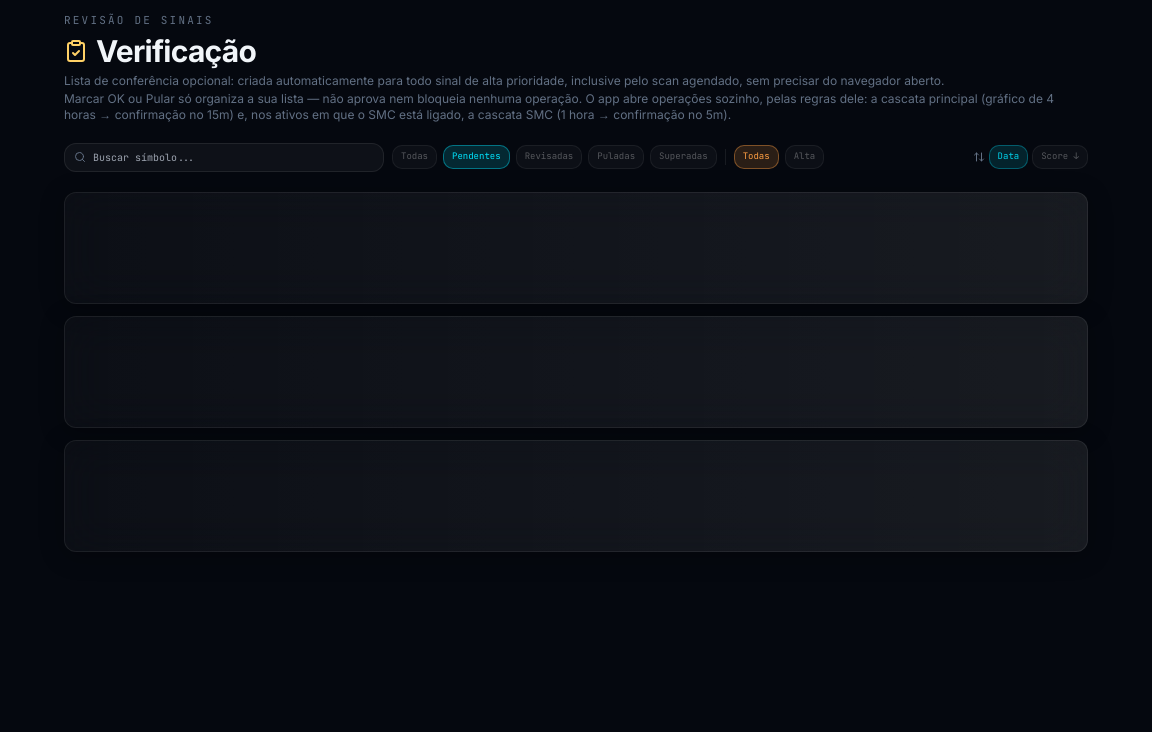
Test case: Verification — "Limpar filtros" aparece junto do empty state filtrado (Round 3 pós-Raio-X) › REGRESSÃO: com busca sem resultado, botão de limpar aparece perto do texto e limpa a busca
Type "NADAQUEEXISTA" into the field with placeholder "Buscar símbolo..." at {"x": 224, "y": 157}, box [64,142,384,172]
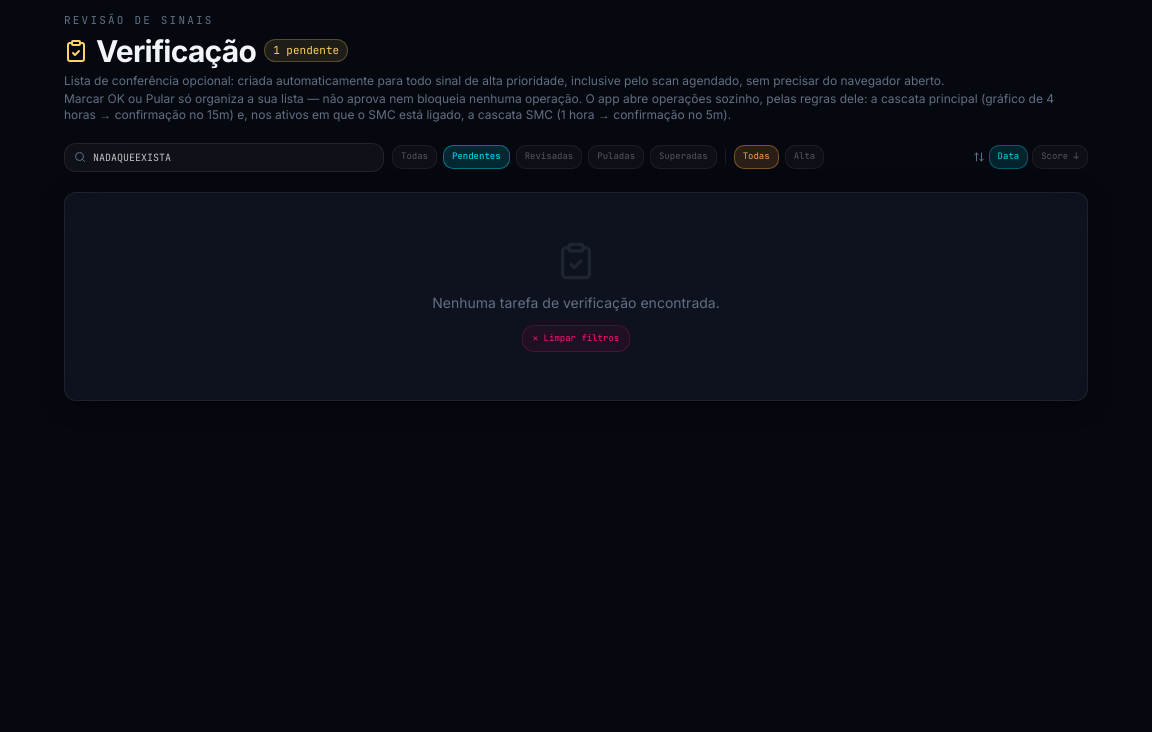
Check: the text "Nenhuma tarefa de verificação encontrada." is shown, box [432,294,720,310]
Click the button "✕ Limpar filtros" at {"x": 576, "y": 338}, box [522,324,630,352]
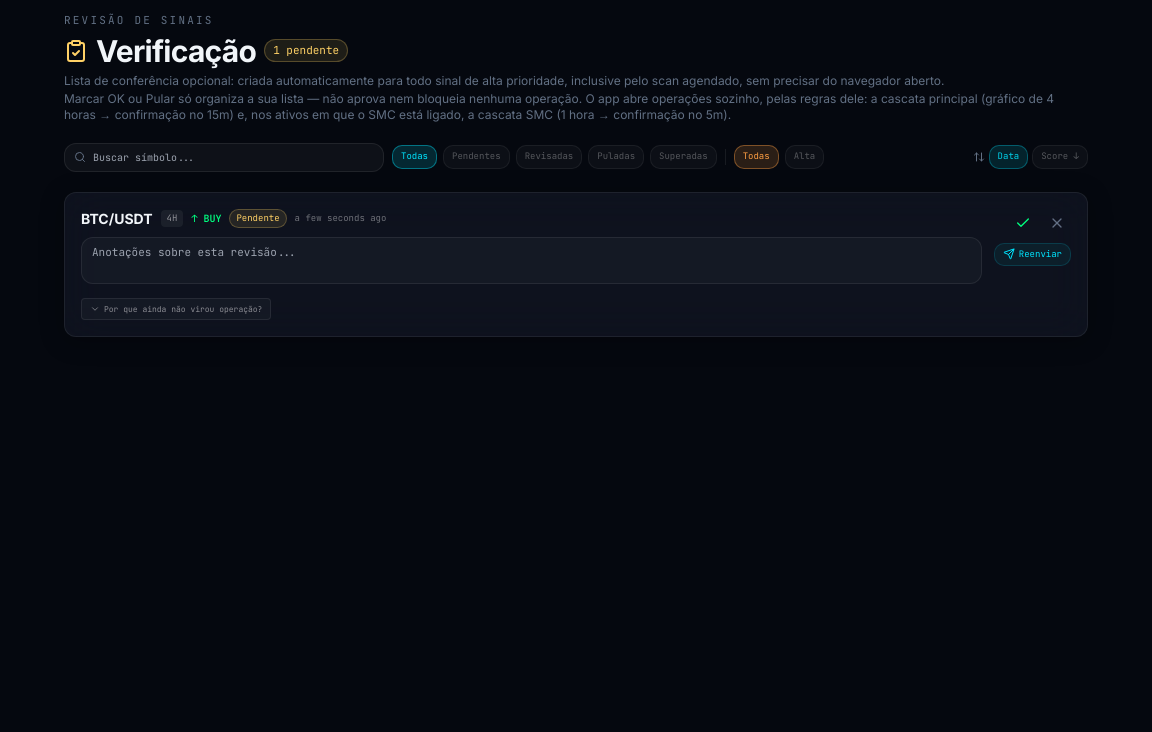
Check: the text "Nenhuma tarefa de verificação encontrada." is gone
Check: the field with placeholder "Buscar símbolo..." is empty, box [64,142,384,172]
